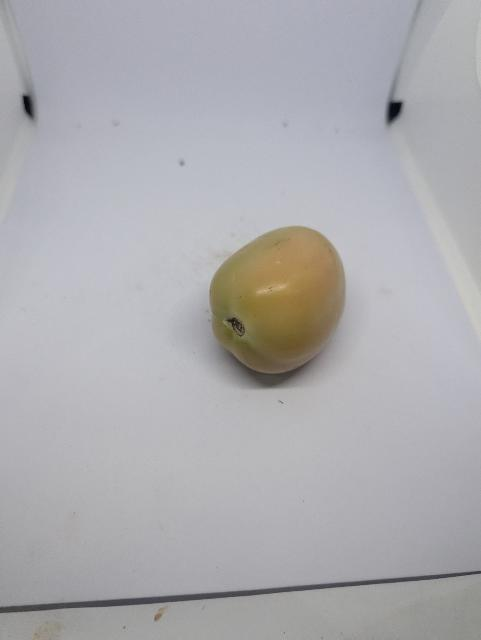turning: (208, 217, 352, 394)
